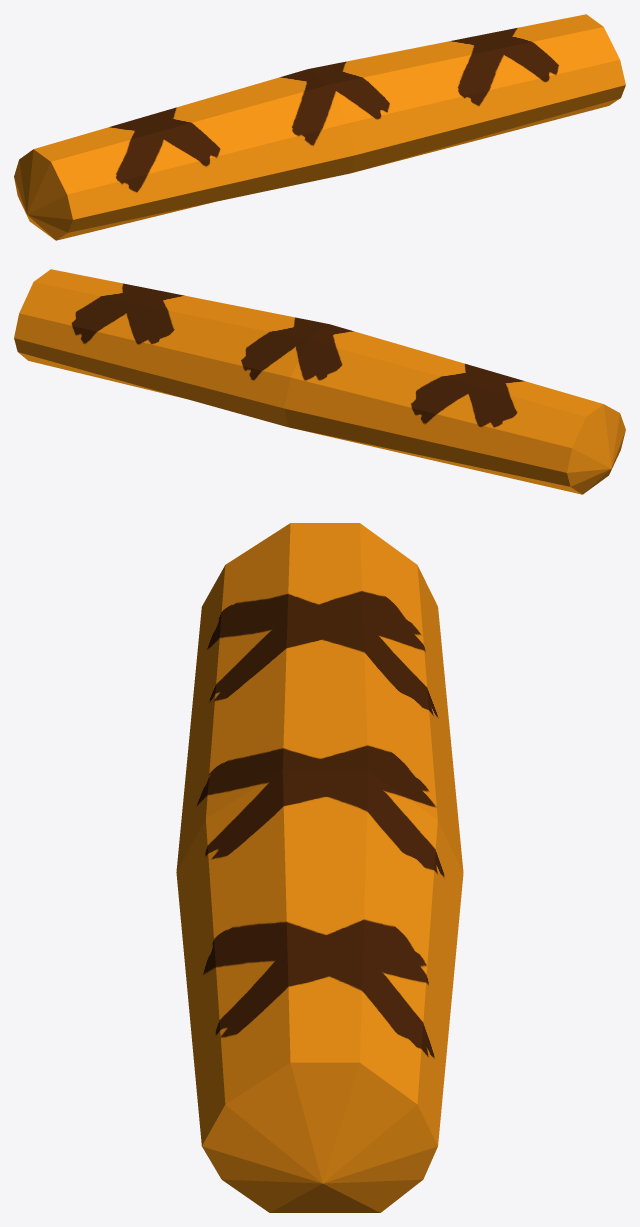
The model's file is yoot-rhino-3.glb.
The picture shows the model from 3 angles, top to bottom: view 1: azimuth 30°, elevation 25°; view 2: azimuth 150°, elevation 25°; view 3: azimuth 270°, elevation 25°; orthographic projection. The views are drawn at different scales.
Parts seen in each view (by area): view 1: Cylinder.019; view 2: Cylinder.019; view 3: Cylinder.019.
Part boxes in pixels (box(x1,y1,x2,y2)): Cylinder.019: box(14, 14, 625, 240); Cylinder.019: box(14, 269, 625, 494); Cylinder.019: box(176, 523, 463, 1212).
Bounding box in the file's own units: 14.52 × 2.07 × 3.11.
1 material, 1 textured.
